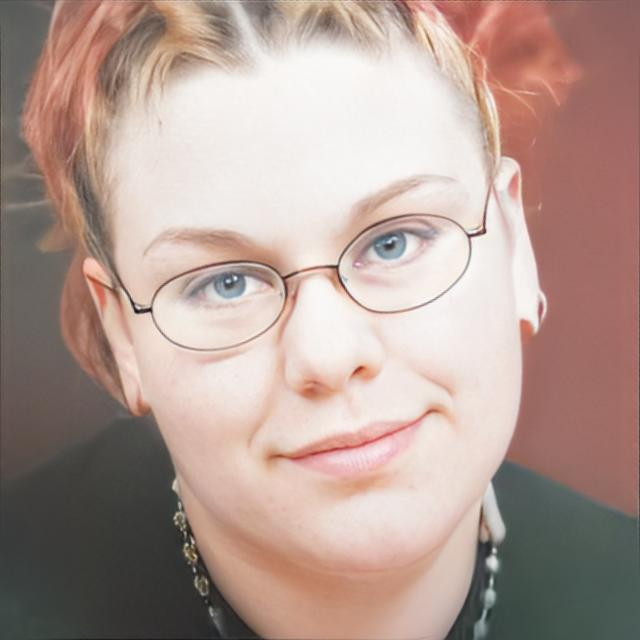content: (110, 30, 526, 578)
